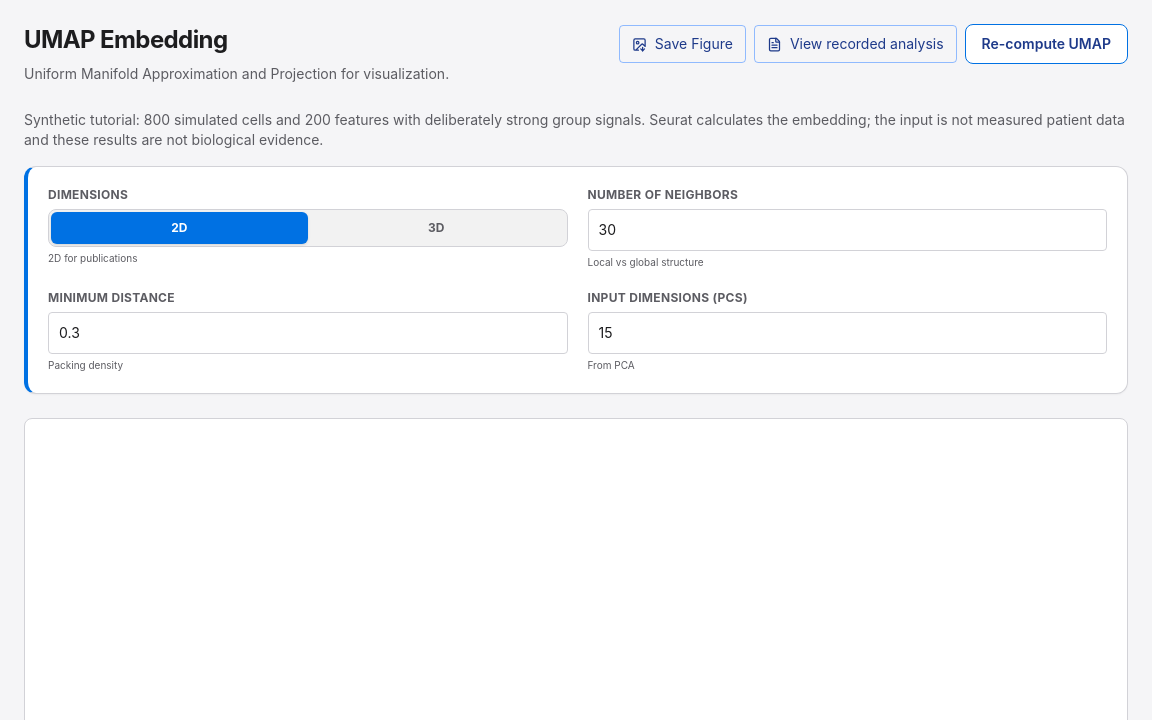
Test case: UMAPView › discloses simulated input and distinguishes edited settings from the plotted calculation
expect the text "800 simulated cells" is shown: met, box [24,111,1125,148]
expect the button "Re-compute UMAP" is shown: met, box [965,24,1128,64]
Replace the text in the number field labelled "Number of Neighbors" with "42": (847, 230) [588,209,1107,251]
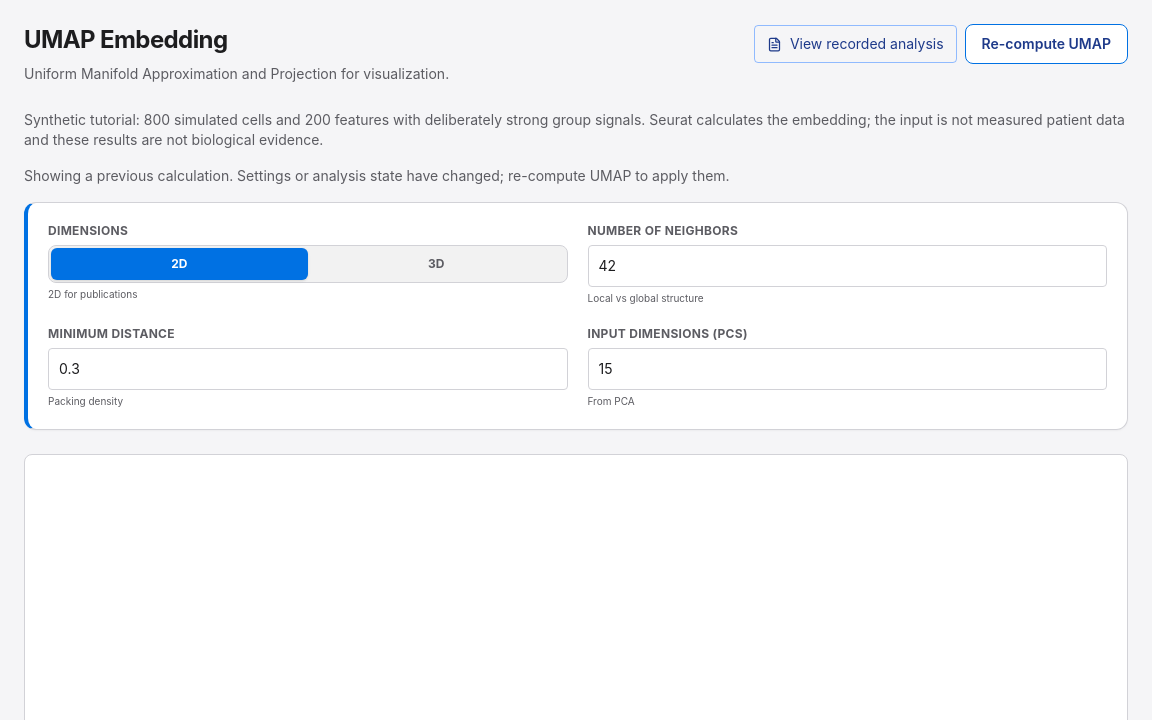
expect the message shows "Showing a previous calculation": met, box [24,167,730,184]
expect the button "Save Figure" is gone: met
Click the button "Re-compute UMAP": (1046, 44) [965,24,1128,64]
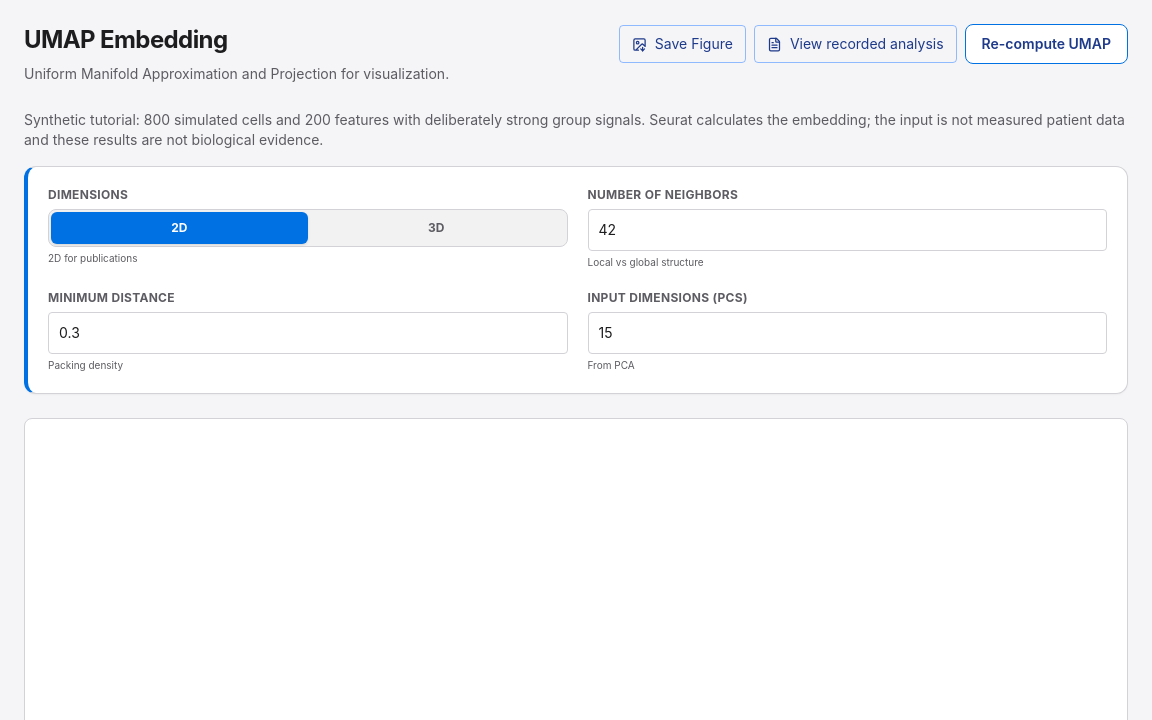
expect the text "Showing a previous calculation" is gone: met
